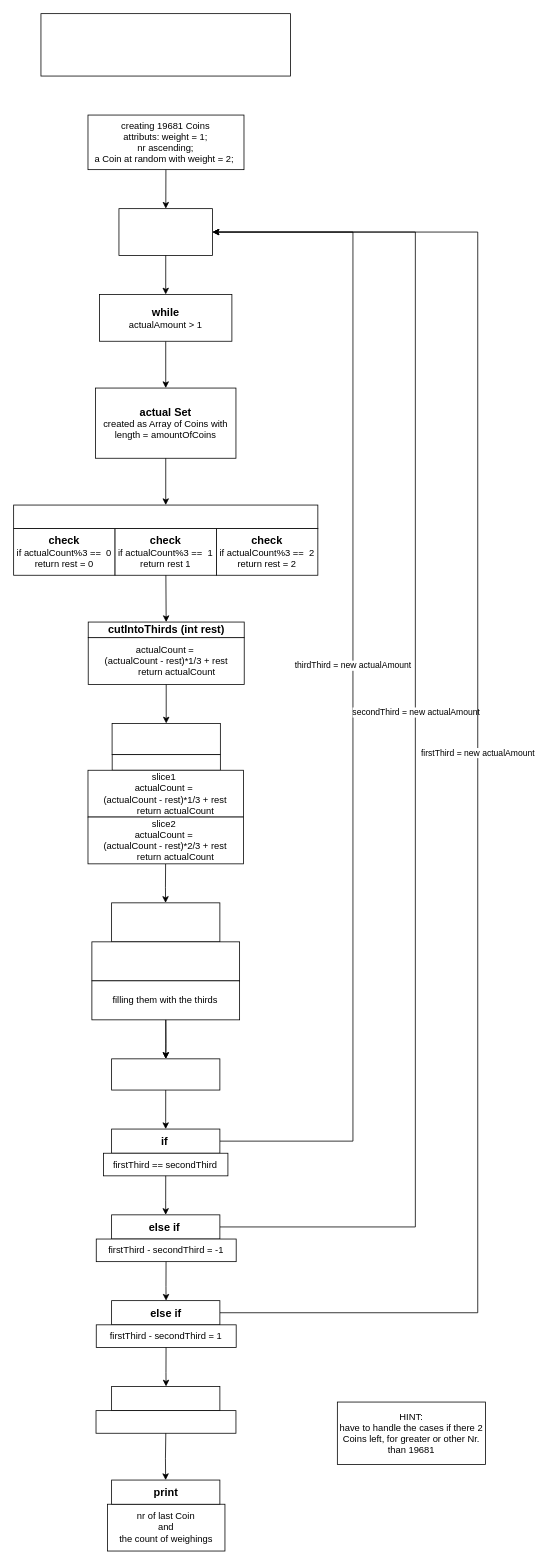
Image size: 548x1565. Some labels were removed from this diagram. The centre of each missing label's shape, as x and y in pixels:
- rest: pixel 165 762
all three with the length of the value of slice1: pixel 165 961
creating 3 new arrays: pixel 165 922
else: pixel 165 1398
makeDivisble: pixel 165 516
PAP for Coins Algorithm: pixel 165 44
setting actualAmount: pixel 165 231
slicing (int rest): pixel 165 739
throw exception: pixel 165 1421
weigh two arrays: pixel 165 1074
